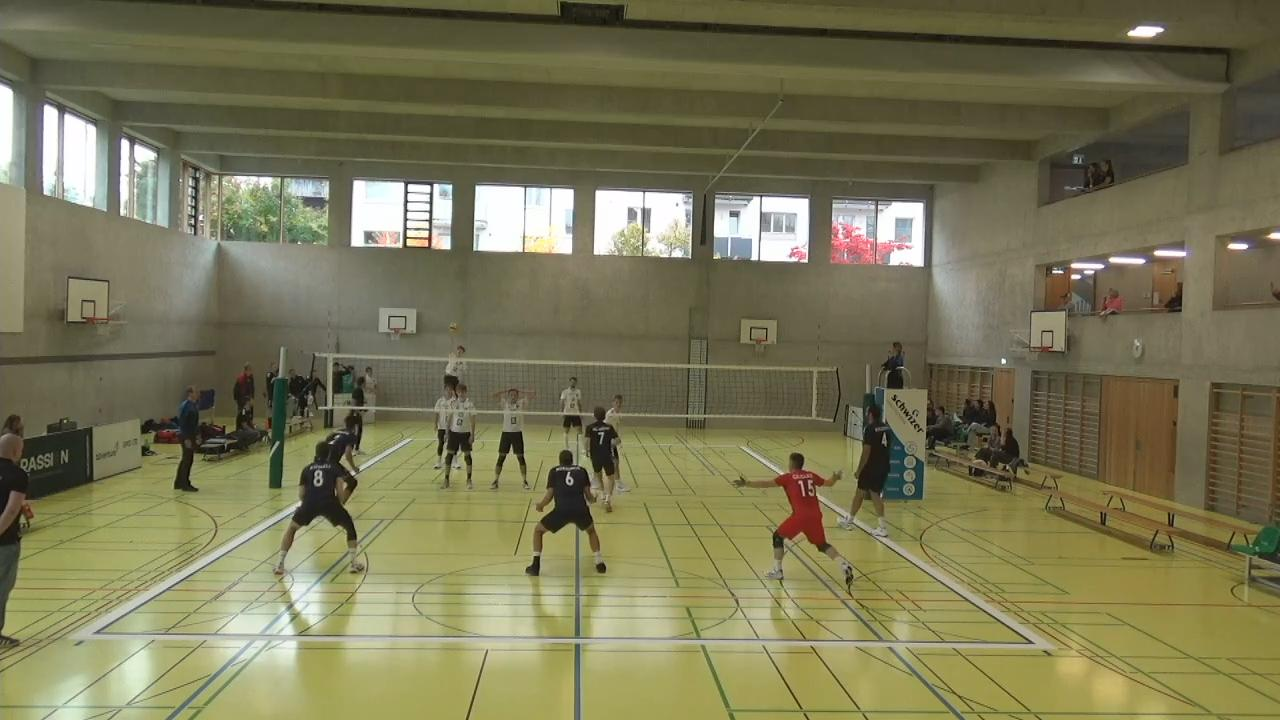battuta: (441, 320, 470, 396)
